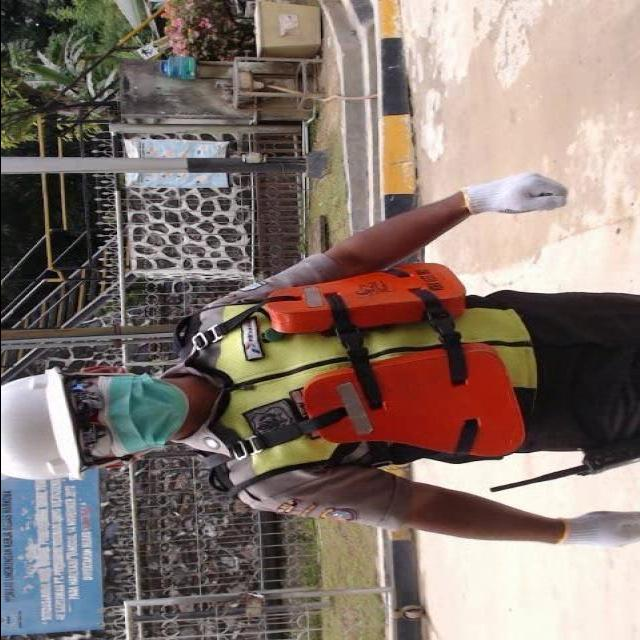helmet: (0, 348, 92, 494)
jacket: (171, 249, 539, 486)
